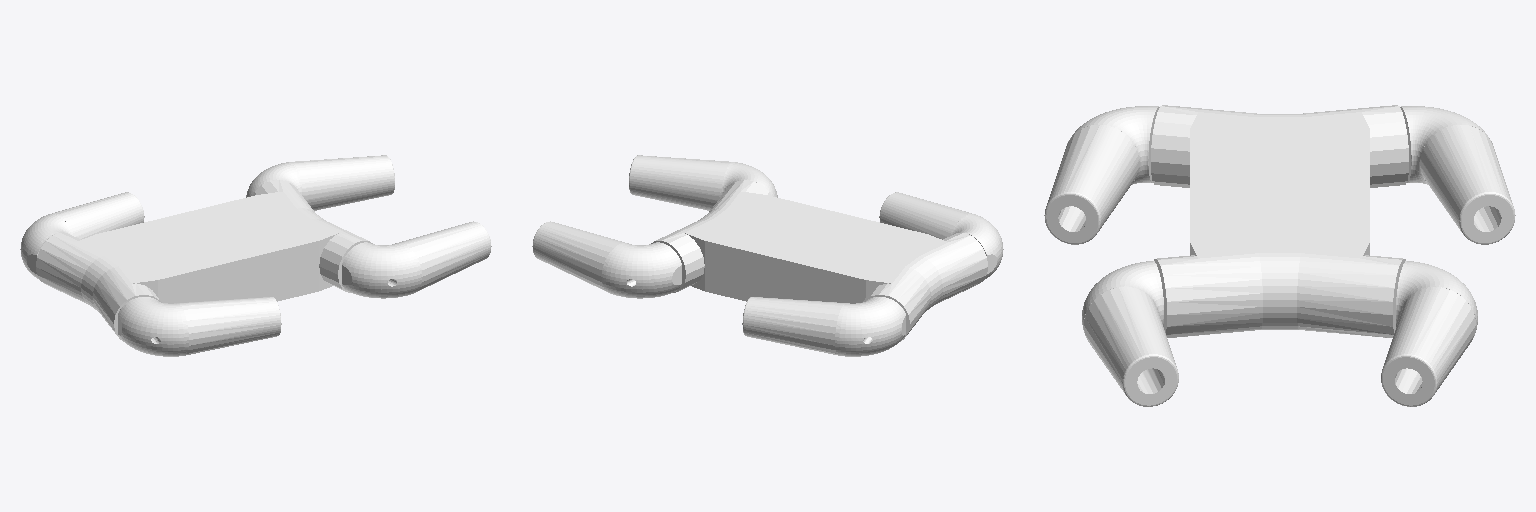
URDF robot description (12_degree):
<?xml version="1.0" encoding="utf-8"?>
<!-- This URDF was automatically created by SolidWorks to URDF Exporter! Originally created by [author] ([email redacted]) 
     Commit Version: 1.5.1-0-g916b5db  Build Version: 1.5.7152.31018
     For more information, please see http://wiki.ros.org/sw_urdf_exporter -->
<robot
  name="12_degree">
  <link
    name="base_link">
    <inertial>
      <origin
        xyz="2.0817E-17 4.1783E-08 0"
        rpy="0 0 0" />
      <mass
        value="2.942" />
      <inertia
        ixx="0.0107665"
        ixy="5.0293E-19"
        ixz="-1.0308E-10"
        iyy="0.0413424"
        iyz="-2.9594E-18"
        izz="0.0494858" />
    </inertial>
    <visual>
      <origin
        xyz="0 0 0"
        rpy="0 0 0" />
      <geometry>
        <mesh
          filename="package://12_degree/meshes/base_link.STL" />
      </geometry>
      <material
        name="">
        <color
          rgba="1 1 1 1" />
      </material>
    </visual>
    <collision>
      <origin
        xyz="0 0 0"
        rpy="0 0 0" />
      <geometry>
        <mesh
          filename="package://12_degree/meshes/base_link.STL" />
      </geometry>
    </collision>
  </link>
  <link
    name="left_front_link">
    <inertial>
      <origin
        xyz="-2.2934E-08 0.05683 -0.036011"
        rpy="0 0 0" />
      <mass
        value="0.095" />
      <inertia
        ixx="0.0002672"
        ixy="7.9199E-10"
        ixz="7.8589E-10"
        iyy="0.0000540"
        iyz="2.33E-05"
        izz="0.0002642" />
    </inertial>
    <visual>
      <origin
        xyz="0 0 0"
        rpy="0 0 0" />
      <geometry>
        <mesh
          filename="package://12_degree/meshes/left_front_link.STL" />
      </geometry>
      <material
        name="">
        <color
          rgba="1 1 1 1" />
      </material>
    </visual>
    <collision>
      <origin
        xyz="0 0 0"
        rpy="0 0 0" />
      <geometry>
        <mesh
          filename="package://12_degree/meshes/left_front_link.STL" />
      </geometry>
    </collision>
  </link>
  <joint
    name="left_front_leg"
    type="continuous">
    <origin
      xyz="0.15141 0.10075 0"
      rpy="1.7802 1.5708 0" />
    <parent
      link="base_link" />
    <child
      link="left_front_link" />
    <axis
      xyz="0 0 -1" />
    <limit
      effort="5"
      velocity="487" />
  </joint>
  <link
    name="right_front_link">
    <inertial>
      <origin
        xyz="2.2934E-08 0.05683 0.036011"
        rpy="0 0 0" />
      <mass
        value="0.095" />
      <inertia
        ixx="0.0002672"
        ixy="-7.9199E-10"
        ixz="7.8589E-10"
        iyy="0.0000540"
        iyz="-2.33E-05"
        izz="0.0002642" />
    </inertial>
    <visual>
      <origin
        xyz="0 0 0"
        rpy="0 0 0" />
      <geometry>
        <mesh
          filename="package://12_degree/meshes/right_front_link.STL" />
      </geometry>
      <material
        name="">
        <color
          rgba="1 1 1 1" />
      </material>
    </visual>
    <collision>
      <origin
        xyz="0 0 0"
        rpy="0 0 0" />
      <geometry>
        <mesh
          filename="package://12_degree/meshes/right_front_link.STL" />
      </geometry>
    </collision>
  </link>
  <joint
    name="right_front_leg"
    type="continuous">
    <origin
      xyz="0.15141 -0.10075 0"
      rpy="1.3614 1.5708 0" />
    <parent
      link="base_link" />
    <child
      link="right_front_link" />
    <axis
      xyz="0 0 1" />
    <limit
      effort="5"
      velocity="487" />
  </joint>
  <link
    name="right_back_link">
    <inertial>
      <origin
        xyz="1.3042E-09 0.05683 0.036011"
        rpy="0 0 0" />
      <mass
        value="0.095" />
      <inertia
        ixx="0.0002672"
        ixy="-5.3076E-10"
        ixz="5.8227E-10"
        iyy="0.0000540"
        iyz="-2.33E-05"
        izz="0.0002642" />
    </inertial>
    <visual>
      <origin
        xyz="0 0 0"
        rpy="0 0 0" />
      <geometry>
        <mesh
          filename="package://12_degree/meshes/right_back_link.STL" />
      </geometry>
      <material
        name="">
        <color
          rgba="1 1 1 1" />
      </material>
    </visual>
    <collision>
      <origin
        xyz="0 0 0"
        rpy="0 0 0" />
      <geometry>
        <mesh
          filename="package://12_degree/meshes/right_back_link.STL" />
      </geometry>
    </collision>
  </link>
  <joint
    name="right_back_leg"
    type="continuous">
    <origin
      xyz="-0.15141 -0.10075 0"
      rpy="1.7802 1.5708 0" />
    <parent
      link="base_link" />
    <child
      link="right_back_link" />
    <axis
      xyz="0 0 1" />
    <limit
      effort="5"
      velocity="487" />
  </joint>
  <link
    name="left_back_link">
    <inertial>
      <origin
        xyz="-1.3042E-09 0.05683 -0.036011"
        rpy="0 0 0" />
      <mass
        value="0.095" />
      <inertia
        ixx="0.0002672"
        ixy="5.3076E-10"
        ixz="5.8227E-10"
        iyy="0.0000540"
        iyz="2.33E-05"
        izz="0.0002642" />
    </inertial>
    <visual>
      <origin
        xyz="0 0 0"
        rpy="0 0 0" />
      <geometry>
        <mesh
          filename="package://12_degree/meshes/left_back_link.STL" />
      </geometry>
      <material
        name="">
        <color
          rgba="1 1 1 1" />
      </material>
    </visual>
    <collision>
      <origin
        xyz="0 0 0"
        rpy="0 0 0" />
      <geometry>
        <mesh
          filename="package://12_degree/meshes/left_back_link.STL" />
      </geometry>
    </collision>
  </link>
  <joint
    name="left_back_leg"
    type="continuous">
    <origin
      xyz="-0.15141 0.10075 0"
      rpy="1.3614 1.5708 0" />
    <parent
      link="base_link" />
    <child
      link="left_back_link" />
    <axis
      xyz="0 0 -1" />
    <limit
      effort="5"
      velocity="487" />
  </joint>
</robot>

--- What the picture shows (computed from the rendered views, not written in the file) ---
Views: 3 orthographic renders of the robot side by side, from view 1: azimuth 30°, elevation 25°; view 2: azimuth 150°, elevation 25°; view 3: azimuth 270°, elevation 25°.
Model 12_degree with 5 links and 4 joints (4 continuous), rooted at base_link, posed every joint at zero.
Links seen in each view (by area): view 1: base_link, right_back_link, right_front_link, left_front_link, left_back_link; view 2: base_link, left_back_link, left_front_link, right_front_link, right_back_link; view 3: base_link, right_back_link, left_back_link, left_front_link, right_front_link.
Boxes of the visible links, left/top/right/bottom form: base_link: left=36, top=180, right=372, bottom=341; right_back_link: left=118, top=297, right=281, bottom=356; right_front_link: left=342, top=221, right=491, bottom=298; left_front_link: left=246, top=155, right=394, bottom=210; left_back_link: left=20, top=192, right=144, bottom=279; base_link: left=651, top=180, right=987, bottom=341; left_back_link: left=742, top=297, right=905, bottom=356; left_front_link: left=532, top=221, right=681, bottom=298; right_front_link: left=629, top=155, right=777, bottom=210; right_back_link: left=879, top=192, right=1003, bottom=279; base_link: left=1151, top=105, right=1408, bottom=337; right_back_link: left=1044, top=106, right=1159, bottom=244; left_back_link: left=1400, top=106, right=1515, bottom=244; left_front_link: left=1381, top=261, right=1477, bottom=406; right_front_link: left=1082, top=261, right=1178, bottom=406.
Size in the robot's own frame: 0.5035 by 0.3923 by 0.0672 metres.
Meshes: 5 distinct files referenced, 5 mesh visuals loaded (5 binary STL).